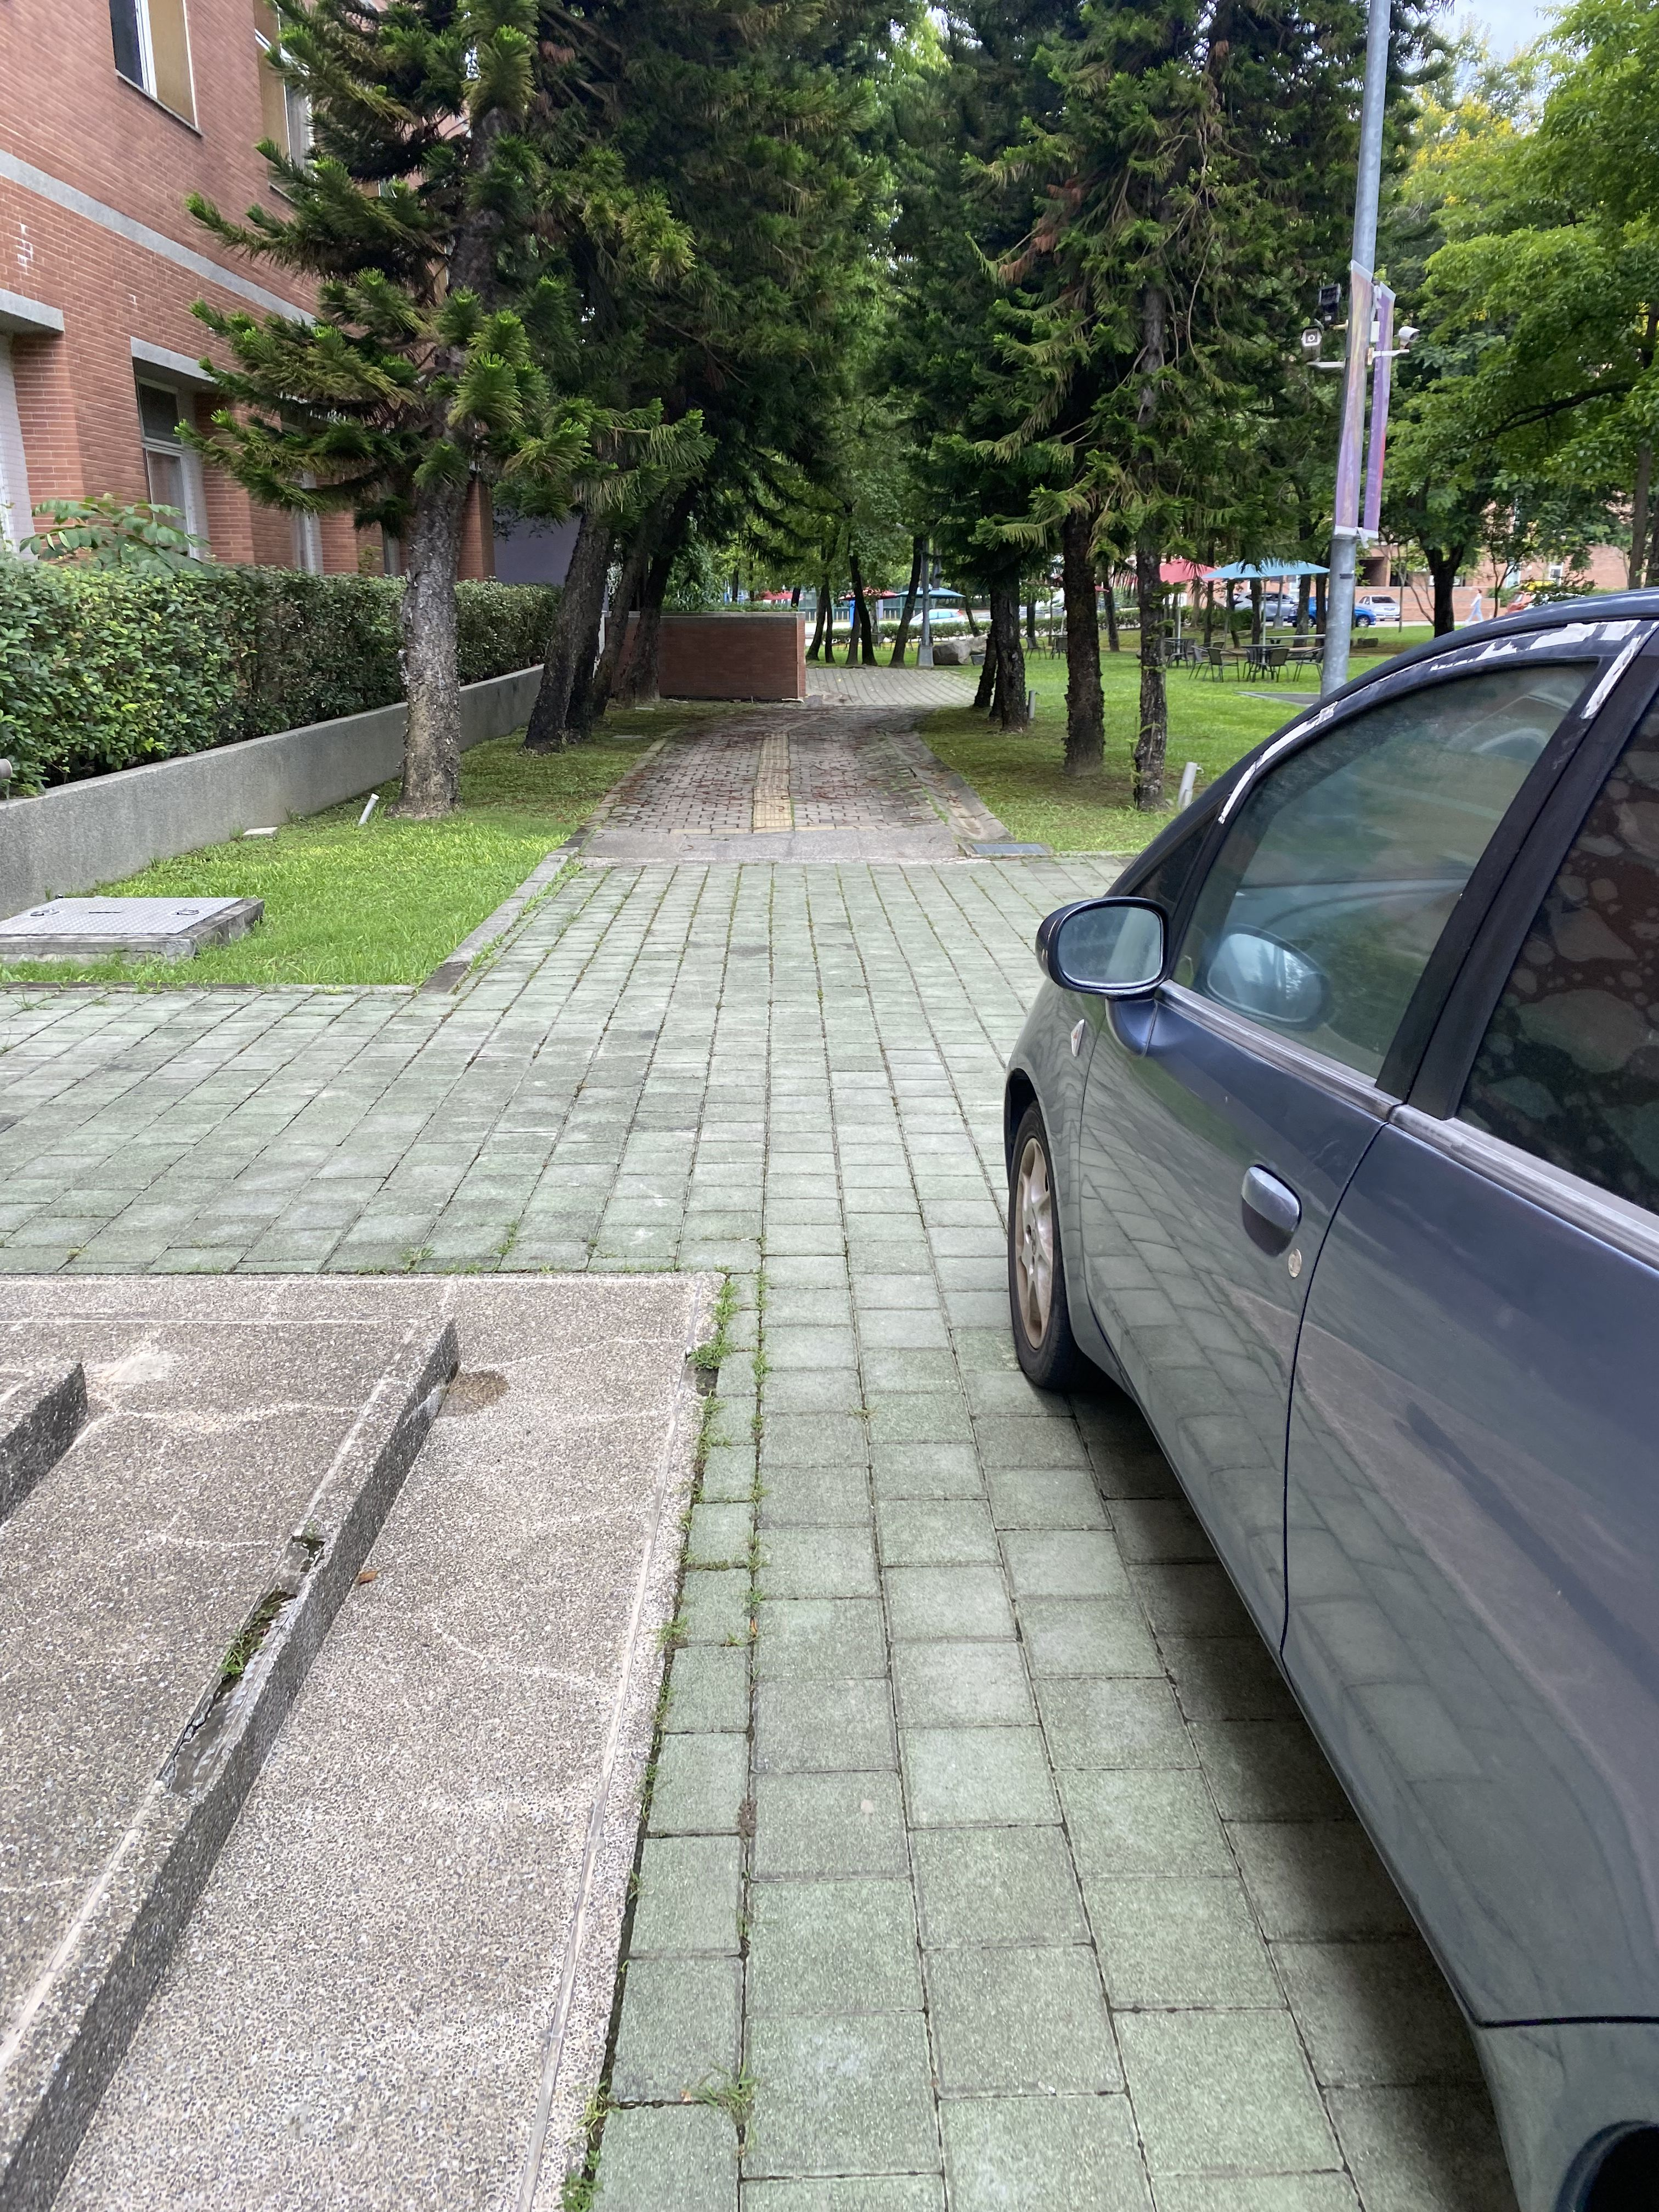sidewalk: (549, 627, 1091, 2172)
